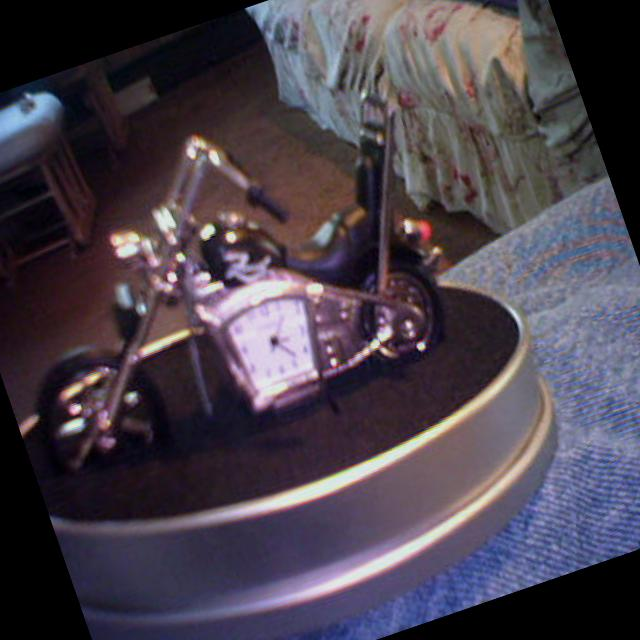Vehicle: (0, 67, 474, 491)
